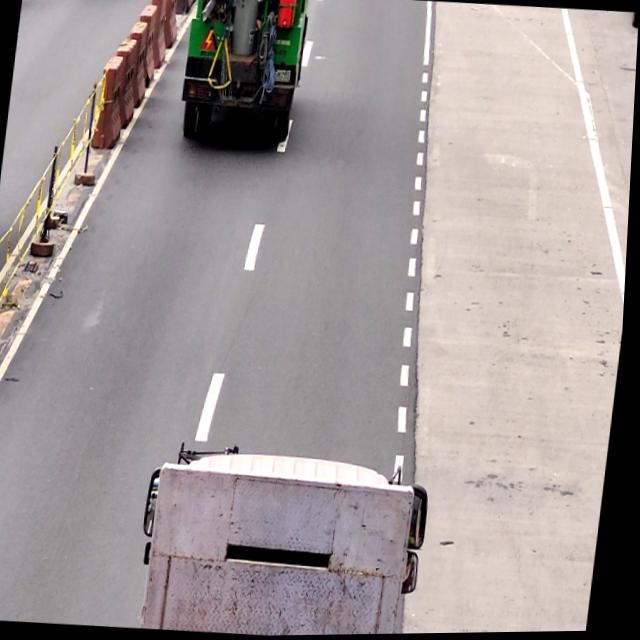Truck: (132, 434, 442, 638), (176, 0, 312, 148)
